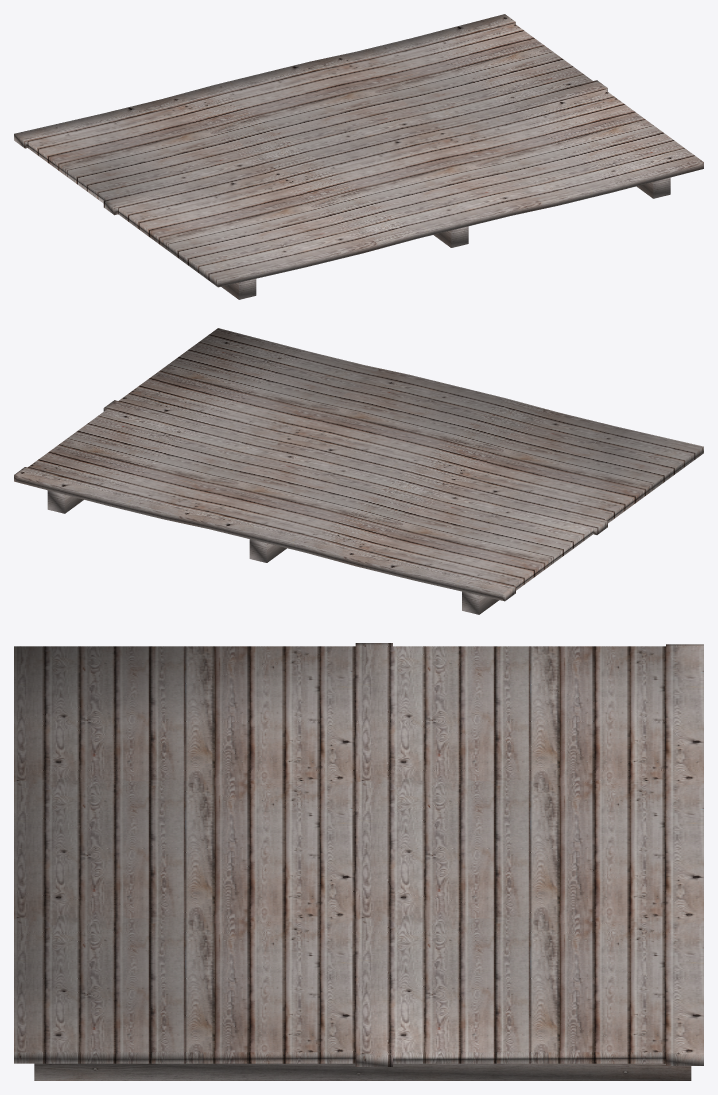
The model's file is platform.fbx.
3 renders of one model, top to bottom at view 1: azimuth 30°, elevation 25°; view 2: azimuth 150°, elevation 25°; view 3: azimuth 270°, elevation 25°, orthographic. The views are drawn at different scales.
Parts seen in each view (by area): view 1: Mesh; view 2: Mesh; view 3: Mesh.
Part boxes in pixels (x1=…): Mesh: x1=14, y1=14, x2=703, y2=299; Mesh: x1=14, y1=328, x2=703, y2=614; Mesh: x1=14, y1=643, x2=703, y2=1080.
Size of the model in its own units: 772 by 45 by 546.
